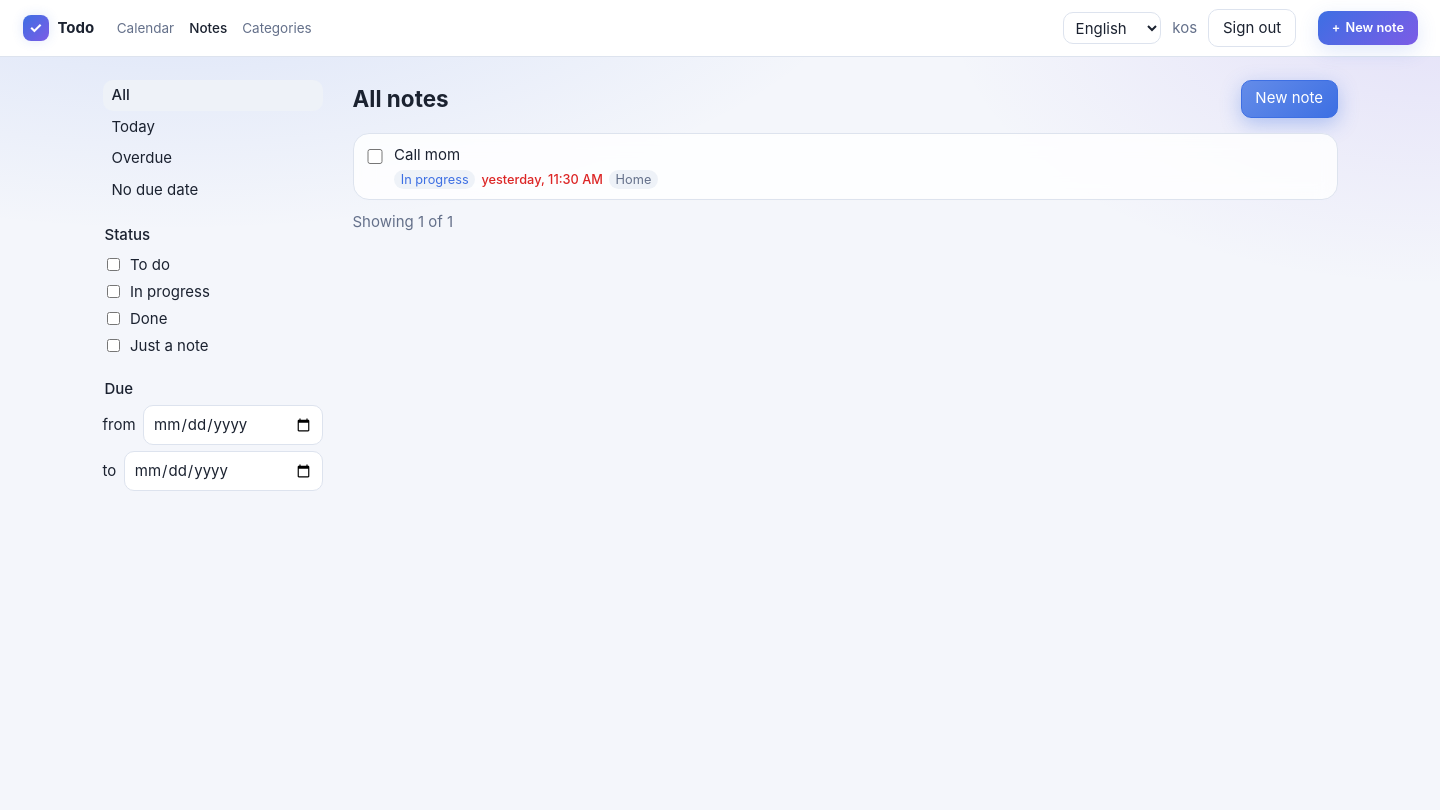
Test: existing note › returns to the list it was opened from after saving
Click the link "Call mom". click: (427, 154)
box: 394,145 -> 460,164
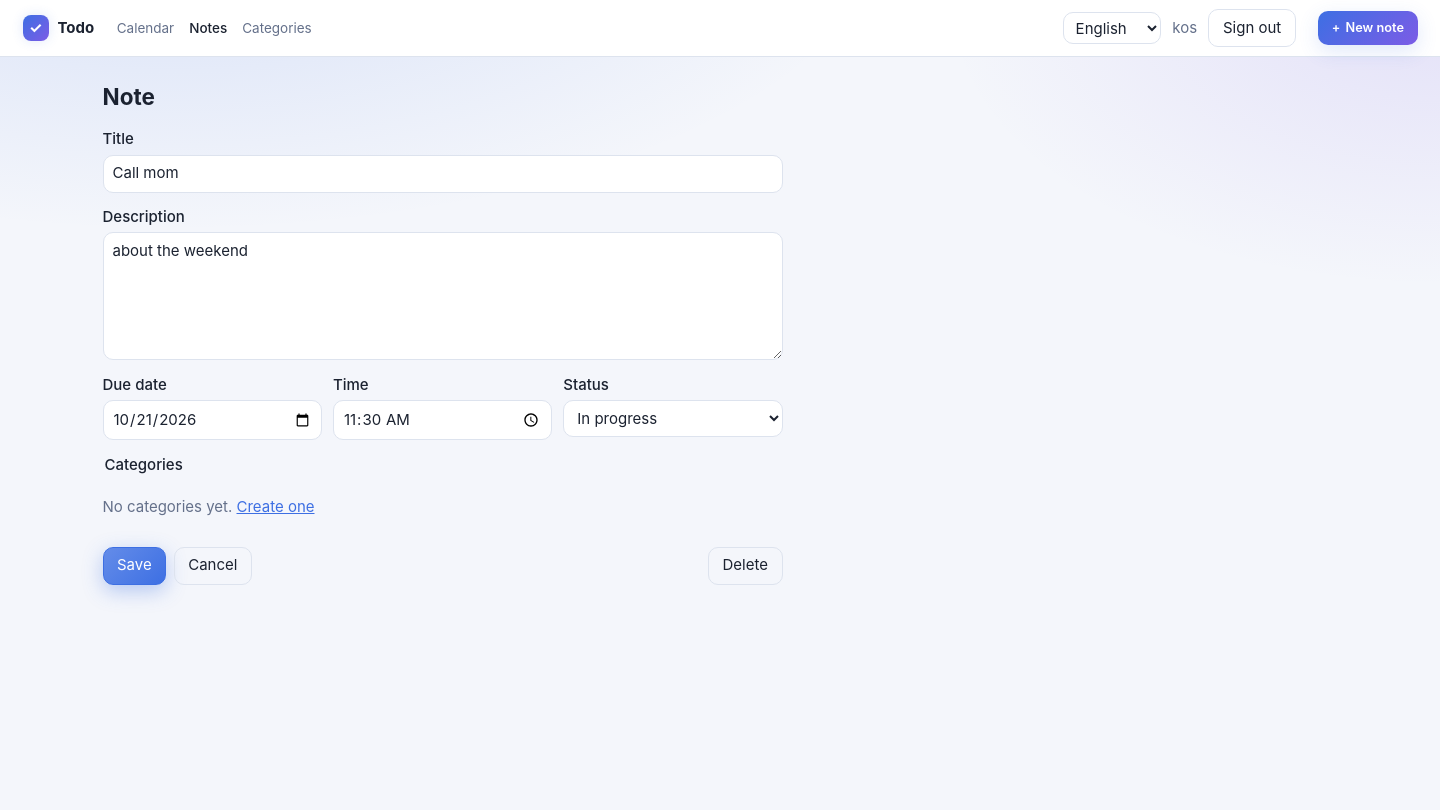
Replace the text in the field labelled "Title" with "Call dad". click: (442, 174)
box: 102,154 -> 782,192
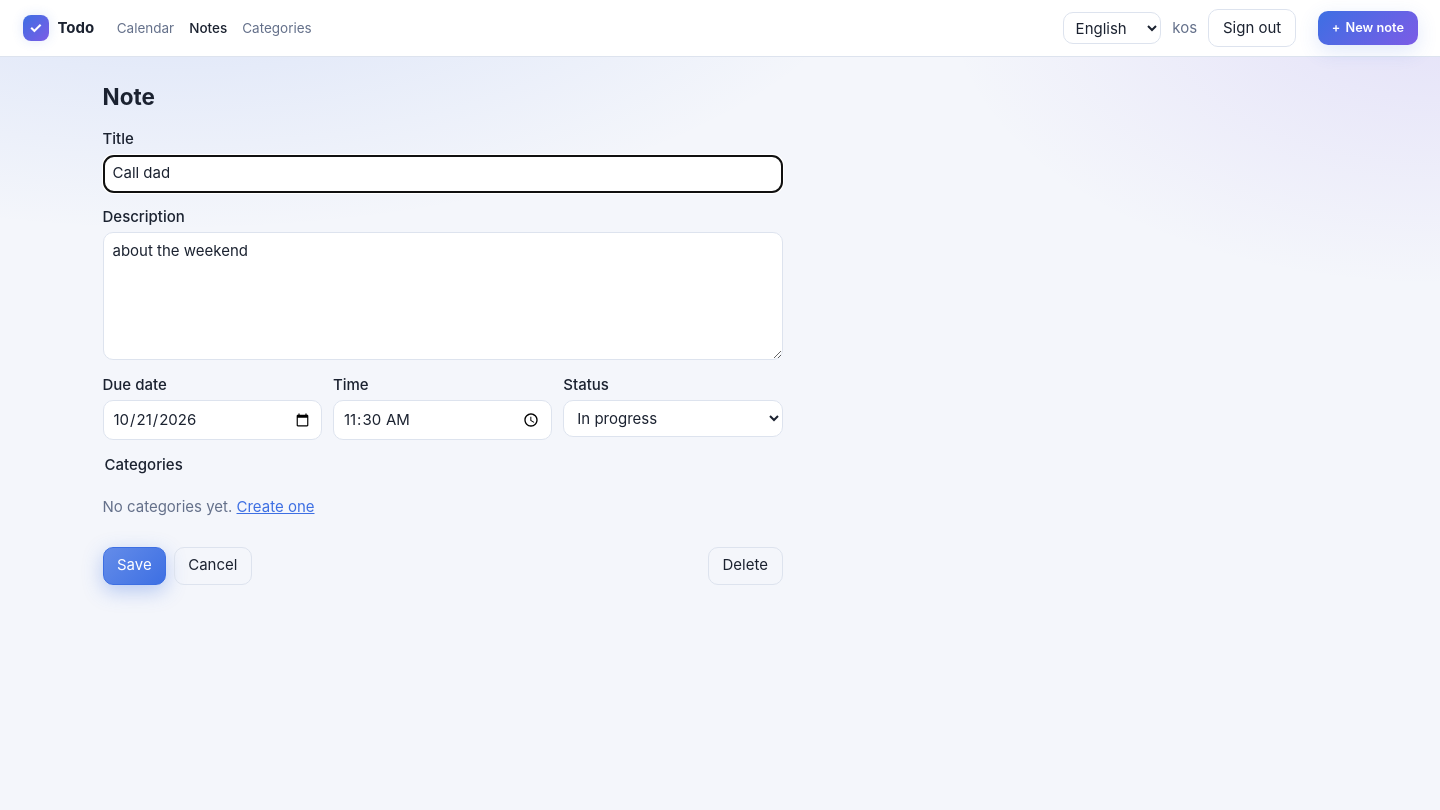
Click the button "Save". click: (134, 566)
box: 102,546 -> 166,584
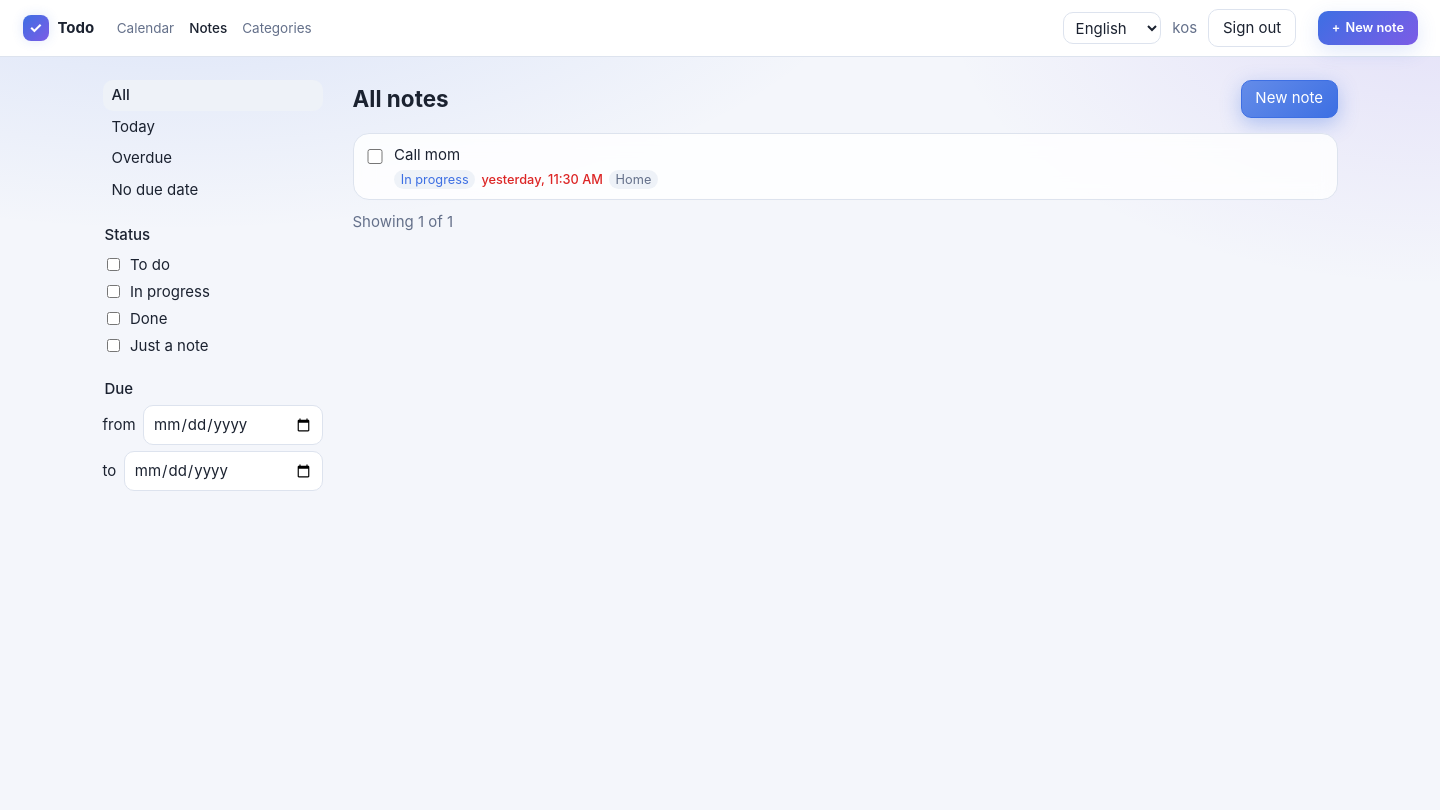
Expected: the heading "All notes" is shown, 352,82 -> 449,115
